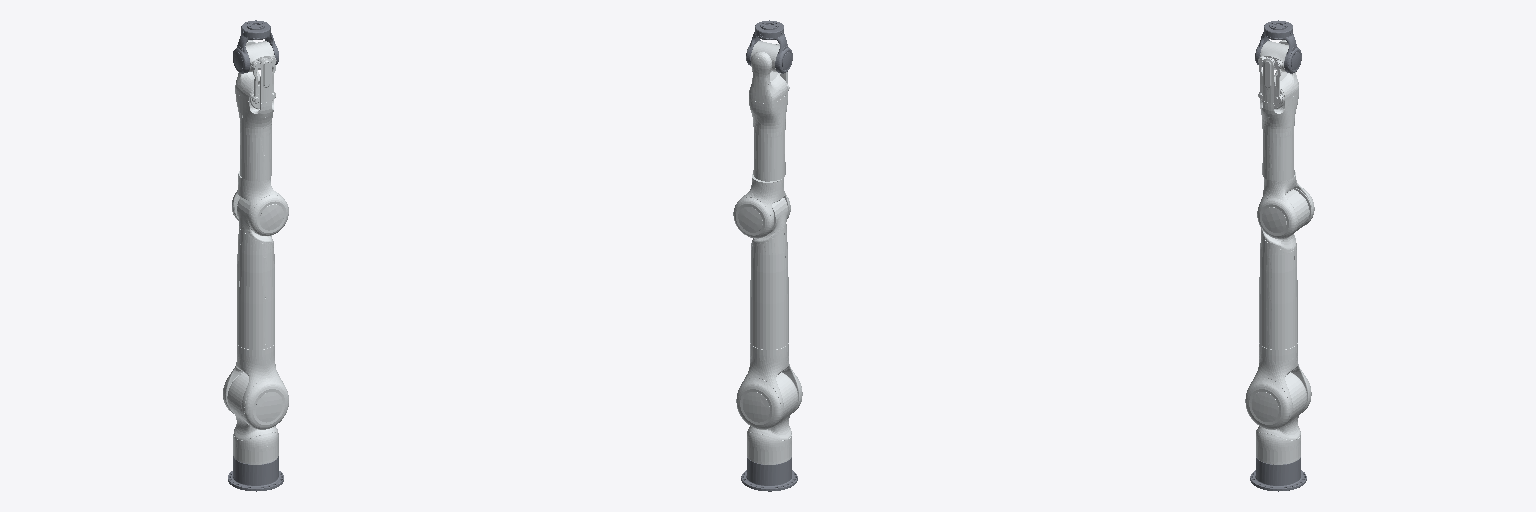
The robot description file, URDF, robot "Marvin M20S-R-CCS-1400-V1.0-Simple Model":
<?xml version="1.0" encoding="utf-8"?>
<!-- This URDF was automatically created by SolidWorks to URDF Exporter! Originally created by Stephen Brawner (brawner@gmail.com) 
     Commit Version: 1.6.0-4-g7f85cfe  Build Version: 1.6.7995.38578
     For more information, please see http://wiki.ros.org/sw_urdf_exporter -->
<robot
  name="Marvin M20S-R-CCS-1400-V1.0-Simple Model">
  <link
    name="right base_link">
    <inertial>
      <origin
        xyz="-6.7E-05 0.00028 0.065921"
        rpy="0 0 0" />
      <mass
        value="5.693" />
      <inertia
        ixx="0.038278028"
        ixy="2.146E-06"
        ixz="-3.6761E-05"
        iyy="0.03845133"
        iyz="5.4951E-05"
        izz="0.015149706" />
    </inertial>
    <visual>
      <origin
        xyz="0 0 0"
        rpy="0 0 0" />
      <geometry>
        <mesh
          filename="package://Marvin M20S-R-CCS-1400-V1.0-Simple Model/meshes/right base_link.STL" />
      </geometry>
      <material
        name="">
        <color
          rgba="0.5451 0.56471 0.60392 1" />
      </material>
    </visual>
    <collision>
      <origin
        xyz="0 0 0"
        rpy="0 0 0" />
      <geometry>
        <mesh
          filename="package://Marvin M20S-R-CCS-1400-V1.0-Simple Model/meshes/right base_link.STL" />
      </geometry>
    </collision>
  </link>
  <link
    name="rigth_Link-J1">
    <inertial>
      <origin
        xyz="-0.000144 -0.000607 -0.038249"
        rpy="0 0 0" />
      <mass
        value="7.982" />
      <inertia
        ixx="0.066875835"
        ixy="-4.7467E-05"
        ixz="0.000299756"
        iyy="0.071465174"
        iyz="1.7502E-05"
        izz="0.020324947" />
    </inertial>
    <visual>
      <origin
        xyz="0 0 0"
        rpy="0 0 0" />
      <geometry>
        <mesh
          filename="package://Marvin M20S-R-CCS-1400-V1.0-Simple Model/meshes/rigth_Link-J1.STL" />
      </geometry>
      <material
        name="">
        <color
          rgba="0.89804 0.91765 0.92941 1" />
      </material>
    </visual>
    <collision>
      <origin
        xyz="0 0 0"
        rpy="0 0 0" />
      <geometry>
        <mesh
          filename="package://Marvin M20S-R-CCS-1400-V1.0-Simple Model/meshes/rigth_Link-J1.STL" />
      </geometry>
    </collision>
  </link>
  <joint
    name="right Joint-J1"
    type="revolute">
    <origin
      xyz="0 0 0.305"
      rpy="0 0 0" />
    <parent
      link="right base_link" />
    <child
      link="rigth_Link-J1" />
    <axis
      xyz="0 0 1" />
    <limit
      lower="-2.9671"
      upper="2.9671"
      effort="490"
      velocity="2.0944" />
  </joint>
  <link
    name="rigth_Link-J2">
    <inertial>
      <origin
        xyz="1.5E-05 0.111799 0.008392"
        rpy="0 0 0" />
      <mass
        value="5.754" />
      <inertia
        ixx="0.13599374"
        ixy="-9.143E-06"
        ixz="-3.777E-06"
        iyy="0.020189564"
        iyz="-0.000117766"
        izz="0.131388273" />
    </inertial>
    <visual>
      <origin
        xyz="0 0 0"
        rpy="0 0 0" />
      <geometry>
        <mesh
          filename="package://Marvin M20S-R-CCS-1400-V1.0-Simple Model/meshes/rigth_Link-J2.STL" />
      </geometry>
      <material
        name="">
        <color
          rgba="0.89804 0.91765 0.92941 1" />
      </material>
    </visual>
    <collision>
      <origin
        xyz="0 0 0"
        rpy="0 0 0" />
      <geometry>
        <mesh
          filename="package://Marvin M20S-R-CCS-1400-V1.0-Simple Model/meshes/rigth_Link-J2.STL" />
      </geometry>
    </collision>
  </link>
  <joint
    name="right Joint-J2"
    type="revolute">
    <origin
      xyz="0 0 0"
      rpy="1.5708 0 0" />
    <parent
      link="rigth_Link-J1" />
    <child
      link="rigth_Link-J2" />
    <axis
      xyz="0 0 1" />
    <limit
      lower="-2.0944"
      upper="2.0944"
      effort="490"
      velocity="2.0944" />
  </joint>
  <link
    name="rigth_Link-J3">
    <inertial>
      <origin
        xyz="0.011591 0.000883 -0.139509"
        rpy="0 0 0" />
      <mass
        value="7.512" />
      <inertia
        ixx="0.380288051"
        ixy="0.000165507"
        ixz="0.000285128"
        iyy="0.383888739"
        iyz="6.01E-05"
        izz="0.017472853" />
    </inertial>
    <visual>
      <origin
        xyz="0 0 0"
        rpy="0 0 0" />
      <geometry>
        <mesh
          filename="package://Marvin M20S-R-CCS-1400-V1.0-Simple Model/meshes/rigth_Link-J3.STL" />
      </geometry>
      <material
        name="">
        <color
          rgba="0.89804 0.91765 0.92941 1" />
      </material>
    </visual>
    <collision>
      <origin
        xyz="0 0 0"
        rpy="0 0 0" />
      <geometry>
        <mesh
          filename="package://Marvin M20S-R-CCS-1400-V1.0-Simple Model/meshes/rigth_Link-J3.STL" />
      </geometry>
    </collision>
  </link>
  <joint
    name="right Joint-J3"
    type="revolute">
    <origin
      xyz="0 0.7 0"
      rpy="-1.5708 0 0" />
    <parent
      link="rigth_Link-J2" />
    <child
      link="rigth_Link-J3" />
    <axis
      xyz="0 0 1" />
    <limit
      lower="-2.9671"
      upper="2.9671"
      effort="230"
      velocity="3.1416" />
  </joint>
  <link
    name="rigth_Link-J4">
    <inertial>
      <origin
        xyz="0.011702 -0.069257 0.008652"
        rpy="0 0 0" />
      <mass
        value="3.185" />
      <inertia
        ixx="0.040452545"
        ixy="-0.004995129"
        ixz="-1.6867E-05"
        iyy="0.009920849"
        iyz="4.5404E-05"
        izz="0.038701585" />
    </inertial>
    <visual>
      <origin
        xyz="0 0 0"
        rpy="0 0 0" />
      <geometry>
        <mesh
          filename="package://Marvin M20S-R-CCS-1400-V1.0-Simple Model/meshes/rigth_Link-J4.STL" />
      </geometry>
      <material
        name="">
        <color
          rgba="0.89804 0.91765 0.92941 1" />
      </material>
    </visual>
    <collision>
      <origin
        xyz="0 0 0"
        rpy="0 0 0" />
      <geometry>
        <mesh
          filename="package://Marvin M20S-R-CCS-1400-V1.0-Simple Model/meshes/rigth_Link-J4.STL" />
      </geometry>
    </collision>
  </link>
  <joint
    name="right Joint-J4"
    type="revolute">
    <origin
      xyz="0.023 0 0"
      rpy="1.5708 3.1416 0" />
    <parent
      link="rigth_Link-J3" />
    <child
      link="rigth_Link-J4" />
    <axis
      xyz="0 0 1" />
    <limit
      lower="-2.5307"
      upper="1.0472"
      effort="230"
      velocity="3.1416" />
  </joint>
  <link
    name="rigth_Link-J5">
    <inertial>
      <origin
        xyz="-0.000125 -0.000323 -0.181166"
        rpy="0 0 0" />
      <mass
        value="4.075" />
      <inertia
        ixx="0.185210935"
        ixy="8.35E-07"
        ixz="0.000207996"
        iyy="0.182919197"
        iyz="0.001515119"
        izz="0.007953555" />
    </inertial>
    <visual>
      <origin
        xyz="0 0 0"
        rpy="0 0 0" />
      <geometry>
        <mesh
          filename="package://Marvin M20S-R-CCS-1400-V1.0-Simple Model/meshes/rigth_Link-J5.STL" />
      </geometry>
      <material
        name="">
        <color
          rgba="0.89804 0.91765 0.92941 1" />
      </material>
    </visual>
    <collision>
      <origin
        xyz="0 0 0"
        rpy="0 0 0" />
      <geometry>
        <mesh
          filename="package://Marvin M20S-R-CCS-1400-V1.0-Simple Model/meshes/rigth_Link-J5.STL" />
      </geometry>
    </collision>
  </link>
  <joint
    name="right Joint-J5"
    type="revolute">
    <origin
      xyz="0.023 -0.58 0"
      rpy="1.5708 3.1416 0" />
    <parent
      link="rigth_Link-J4" />
    <child
      link="rigth_Link-J5" />
    <axis
      xyz="0 0 1" />
    <limit
      lower="-2.9671"
      upper="2.9671"
      effort="80"
      velocity="3.1416" />
  </joint>
  <link
    name="rigth_Link-J6">
    <inertial>
      <origin
        xyz="-0.0001 -0.000863 -0.002998"
        rpy="0 0 0" />
      <mass
        value="1.907" />
      <inertia
        ixx="0.003155238"
        ixy="-4.417E-06"
        ixz="2.042E-06"
        iyy="0.002452925"
        iyz="-4.635E-06"
        izz="0.002354237" />
    </inertial>
    <visual>
      <origin
        xyz="0 0 0"
        rpy="0 0 0" />
      <geometry>
        <mesh
          filename="package://Marvin M20S-R-CCS-1400-V1.0-Simple Model/meshes/rigth_Link-J6.STL" />
      </geometry>
      <material
        name="">
        <color
          rgba="0.89804 0.91765 0.92941 1" />
      </material>
    </visual>
    <collision>
      <origin
        xyz="0 0 0"
        rpy="0 0 0" />
      <geometry>
        <mesh
          filename="package://Marvin M20S-R-CCS-1400-V1.0-Simple Model/meshes/rigth_Link-J6.STL" />
      </geometry>
    </collision>
  </link>
  <joint
    name="right Joint-J6"
    type="revolute">
    <origin
      xyz="0 0 0"
      rpy="1.5708 -1.5708 0" />
    <parent
      link="rigth_Link-J5" />
    <child
      link="rigth_Link-J6" />
    <axis
      xyz="0 0 1" />
    <limit
      lower="-1.0472"
      upper="1.0472"
      effort="80"
      velocity="3.1416" />
  </joint>
  <link
    name="rigth_Link-J7">
    <inertial>
      <origin
        xyz="-0.048809 0.010734 -7.8E-05"
        rpy="0 0 0" />
      <mass
        value="0.883" />
      <inertia
        ixx="0.00282161"
        ixy="5.1069E-05"
        ixz="3.16E-07"
        iyy="0.00491252"
        iyz="-4.264E-06"
        izz="0.006246186" />
    </inertial>
    <visual>
      <origin
        xyz="0 0 0"
        rpy="0 0 0" />
      <geometry>
        <mesh
          filename="package://Marvin M20S-R-CCS-1400-V1.0-Simple Model/meshes/rigth_Link-J7.STL" />
      </geometry>
      <material
        name="">
        <color
          rgba="0.5451 0.56471 0.60392 1" />
      </material>
    </visual>
    <collision>
      <origin
        xyz="0 0 0"
        rpy="0 0 0" />
      <geometry>
        <mesh
          filename="package://Marvin M20S-R-CCS-1400-V1.0-Simple Model/meshes/rigth_Link-J7.STL" />
      </geometry>
    </collision>
  </link>
  <joint
    name="right Joint-J7"
    type="revolute">
    <origin
      xyz="0 0 0"
      rpy="1.5708 -1.5708 0" />
    <parent
      link="rigth_Link-J6" />
    <child
      link="rigth_Link-J7" />
    <axis
      xyz="0 0 1" />
    <limit
      lower="-1.5708"
      upper="1.5708"
      effort="80"
      velocity="3.1416" />
  </joint>
</robot>

--- What the picture shows (computed from the rendered views, not written in the file) ---
The picture shows the robot from 3 angles, left to right: view 1: azimuth 30°, elevation 25°; view 2: azimuth 150°, elevation 25°; view 3: azimuth 330°, elevation 25°; orthographic projection.
Model Marvin M20S-R-CCS-1400-V1.0-Simple Model with 8 links and 7 joints (7 revolute), rooted at right base_link, posed all joints at 0.
Visible links, largest first — view 1: rigth_Link-J3, rigth_Link-J5, rigth_Link-J2, rigth_Link-J1, rigth_Link-J4, right base_link, rigth_Link-J7, rigth_Link-J6; view 2: rigth_Link-J3, rigth_Link-J5, rigth_Link-J2, rigth_Link-J1, rigth_Link-J4, right base_link, rigth_Link-J7; view 3: rigth_Link-J3, rigth_Link-J5, rigth_Link-J2, rigth_Link-J1, rigth_Link-J4, right base_link, rigth_Link-J7, rigth_Link-J6.
Boxes of the visible links, <box> form: rigth_Link-J3: <box>237,197,274,349</box>; rigth_Link-J5: <box>235,40,273,181</box>; rigth_Link-J2: <box>223,344,288,429</box>; rigth_Link-J1: <box>227,373,278,464</box>; rigth_Link-J4: <box>232,171,288,235</box>; right base_link: <box>228,456,283,491</box>; rigth_Link-J7: <box>233,20,278,73</box>; rigth_Link-J6: <box>245,41,276,108</box>; rigth_Link-J3: <box>750,198,788,349</box>; rigth_Link-J5: <box>749,44,787,181</box>; rigth_Link-J2: <box>736,343,802,429</box>; rigth_Link-J1: <box>747,372,797,464</box>; rigth_Link-J4: <box>733,174,790,238</box>; right base_link: <box>741,457,797,491</box>; rigth_Link-J7: <box>746,20,792,73</box>; rigth_Link-J3: <box>1259,189,1309,349</box>; rigth_Link-J5: <box>1260,40,1298,181</box>; rigth_Link-J2: <box>1245,343,1311,429</box>; rigth_Link-J1: <box>1256,372,1306,464</box>; rigth_Link-J4: <box>1257,172,1314,238</box>; right base_link: <box>1250,457,1306,491</box>; rigth_Link-J7: <box>1255,20,1301,73</box>; rigth_Link-J6: <box>1258,41,1288,108</box>.
Bounding box of the posed robot: 0.1951 × 0.192 × 1.72 m (x, y, z).
Meshes: 8 distinct files referenced, 8 mesh visuals loaded (8 binary STL).
